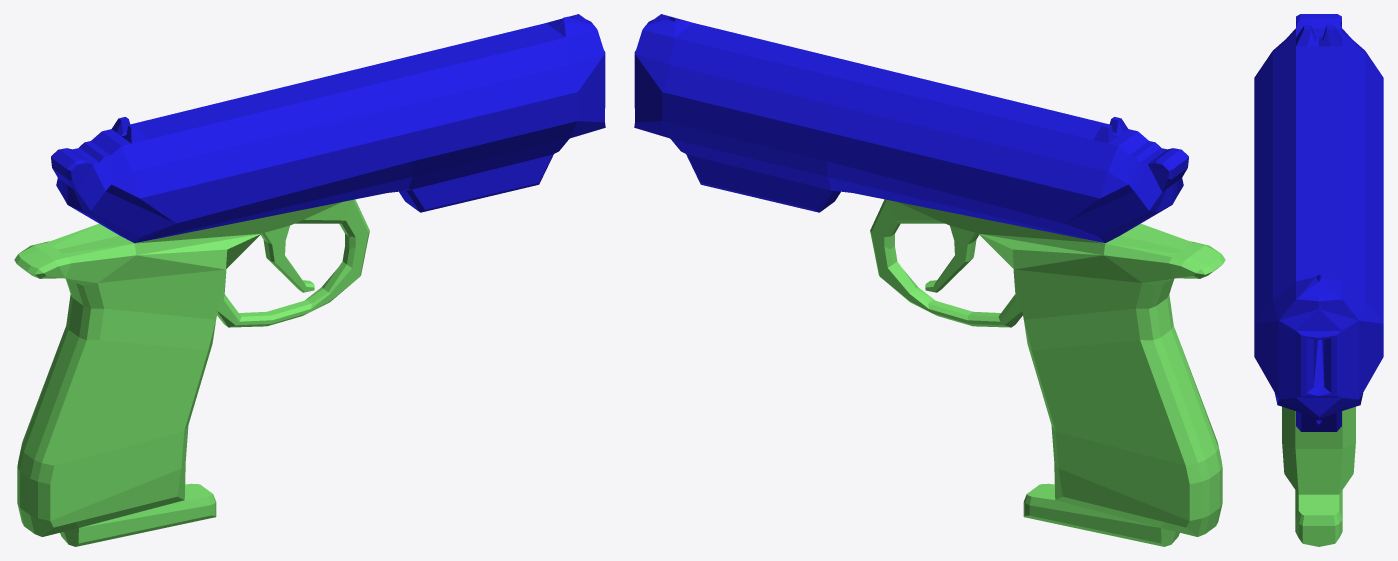
The model's file is Pistola.fbx.
3 views of the same model, side by side, from view 1: azimuth 30°, elevation 25°; view 2: azimuth 150°, elevation 25°; view 3: azimuth 270°, elevation 25° (orthographic). The views are drawn at different scales.
Visible parts, largest first — view 1: Plane.001, Plane; view 2: Plane.001, Plane; view 3: Plane.001, Plane.
Part boxes in pixels (x1,y1,x2,y2): Plane.001: (51,14,605,243); Plane: (14,199,369,546); Plane.001: (634,14,1188,243); Plane: (870,199,1225,546); Plane.001: (1254,14,1383,431); Plane: (1282,406,1355,546).
Bounding box in the file's own units: 223 × 153 × 37.63.
